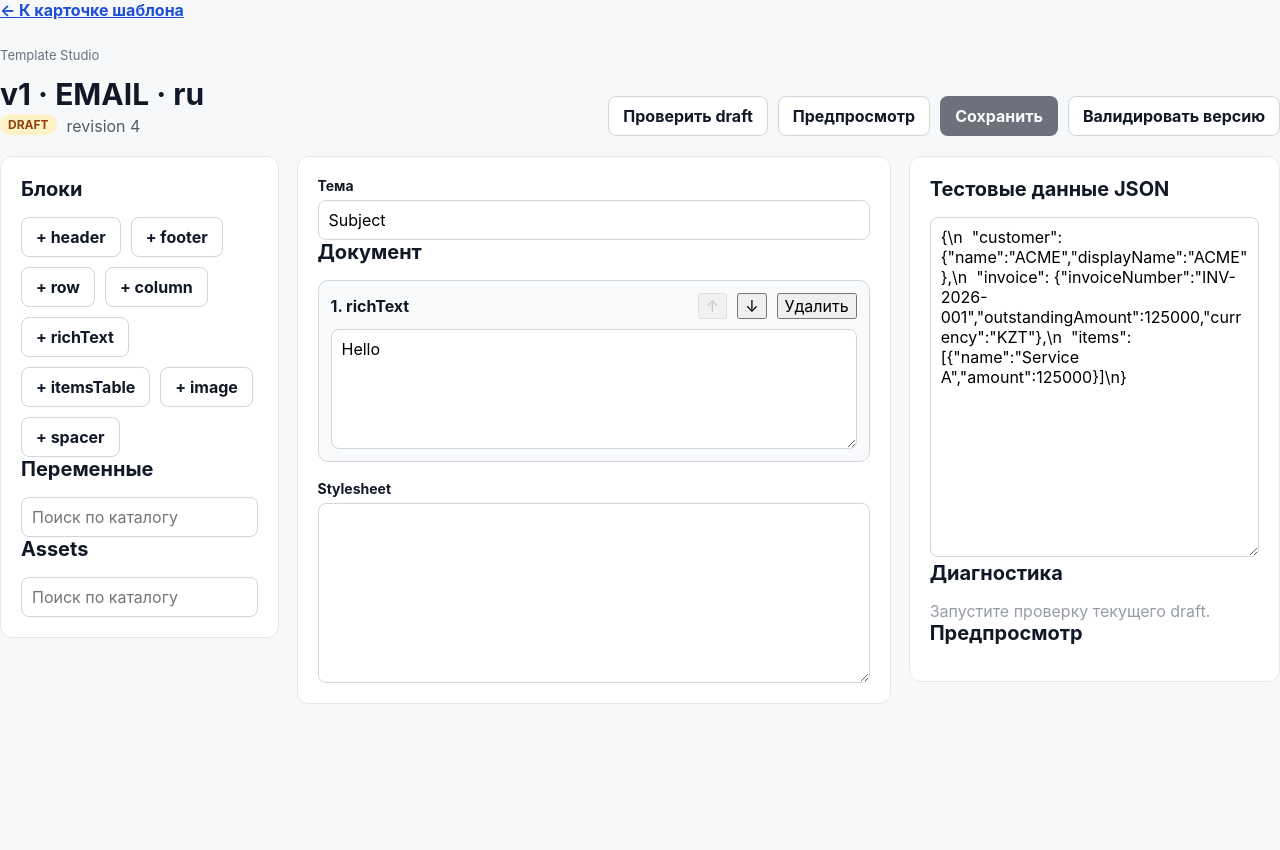
it: TemplateVersionEditorPage › preserves local draft after VERSION_CONFLICT
This screenshot has width=1280, height=850.
Replace the text in the text box showing "Hello" below "1. richText" with "Edited local draft": (594, 389) x1=330 y1=329 x2=857 y2=449
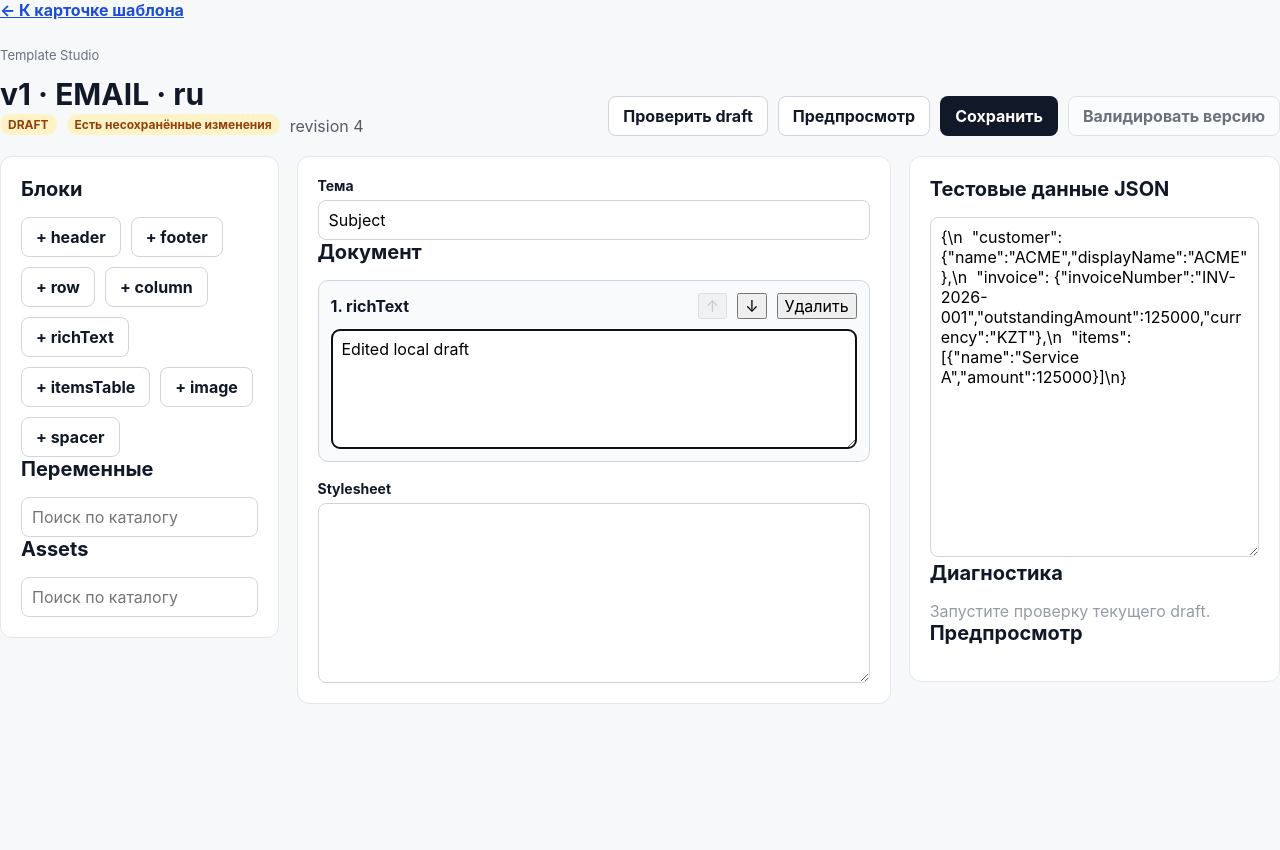
Click the button "Сохранить": (999, 116) x1=940 y1=96 x2=1058 y2=136
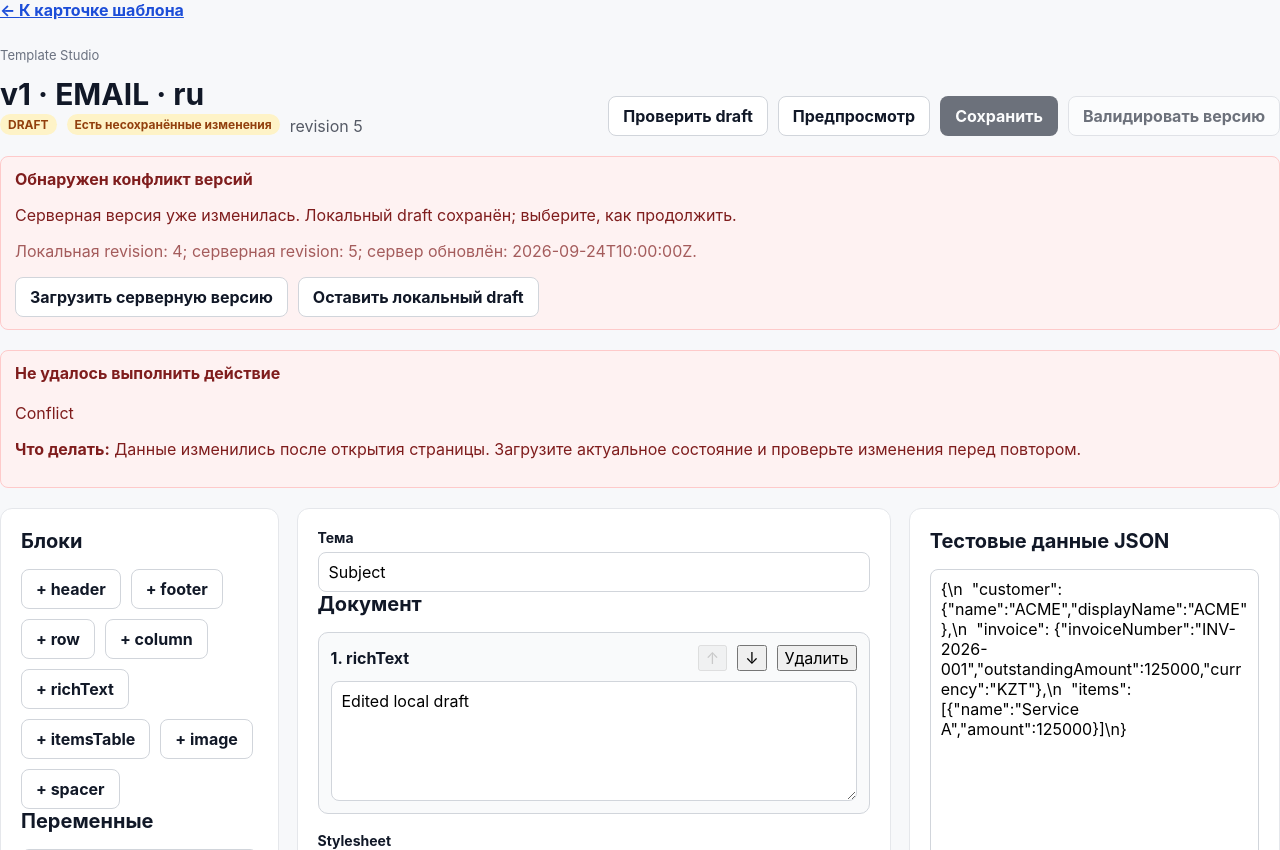
Expected: the text "Обнаружен конфликт версий" is shown, x1=15 y1=169 x2=253 y2=189
